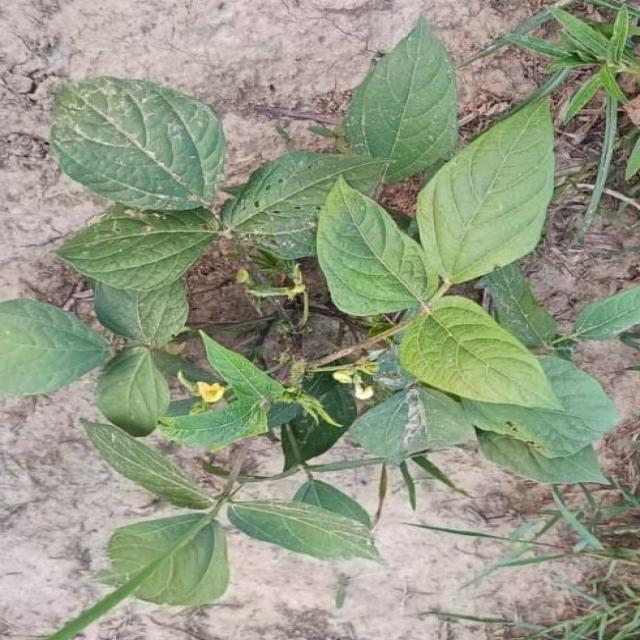plant: (1, 18, 640, 639)
